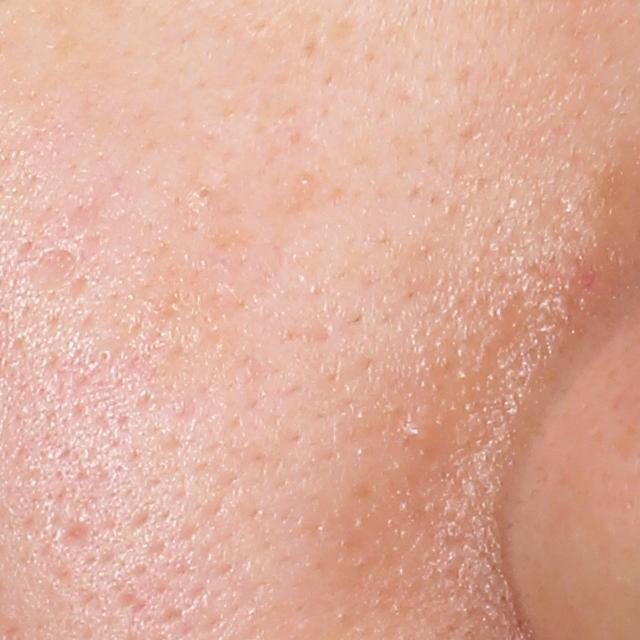atrophic_scar: (26, 243, 82, 294), (54, 520, 96, 551), (113, 589, 149, 622)
comedo: (92, 340, 117, 367), (194, 179, 219, 204)
